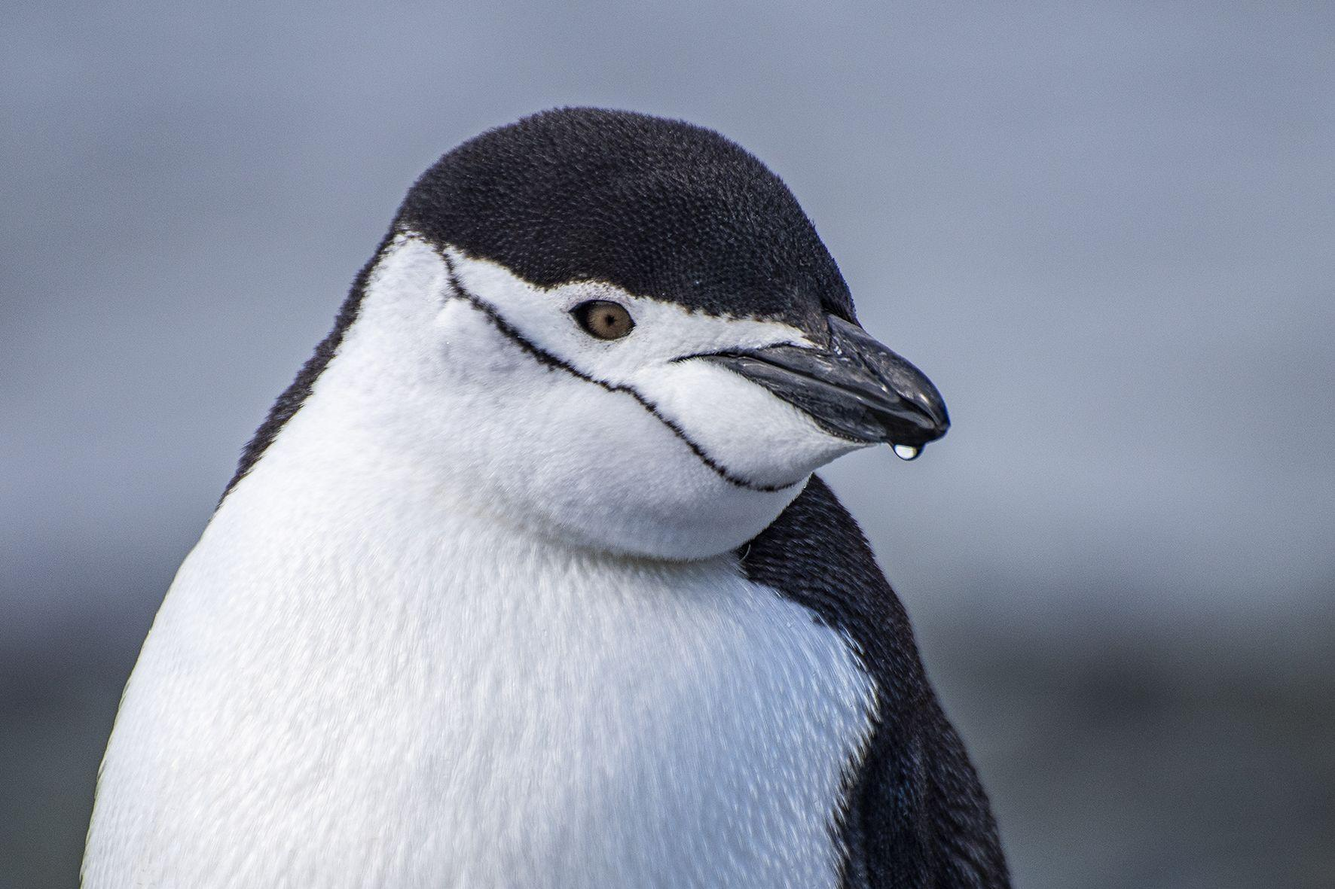Penguin: (84, 109, 1009, 885)
